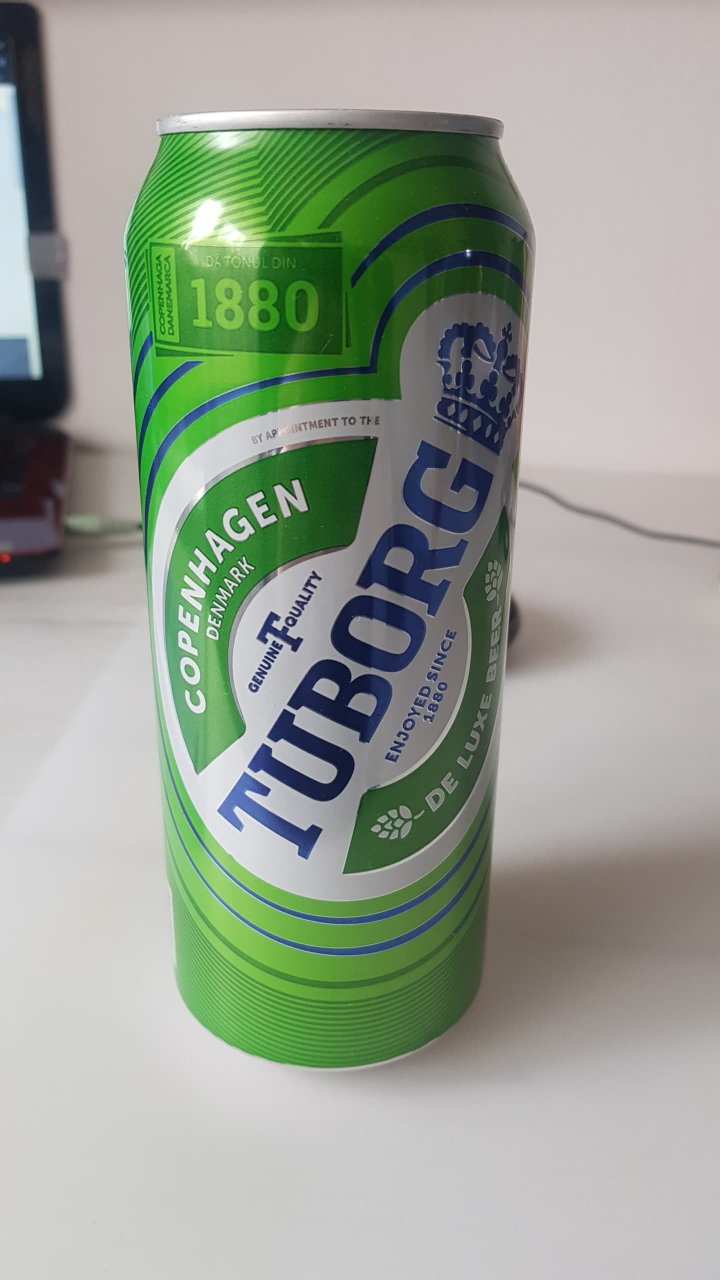Can: (124, 108, 537, 1073)
